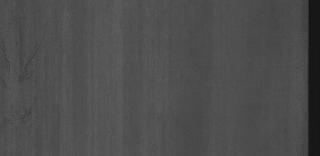water spot: (0, 24, 44, 122)
